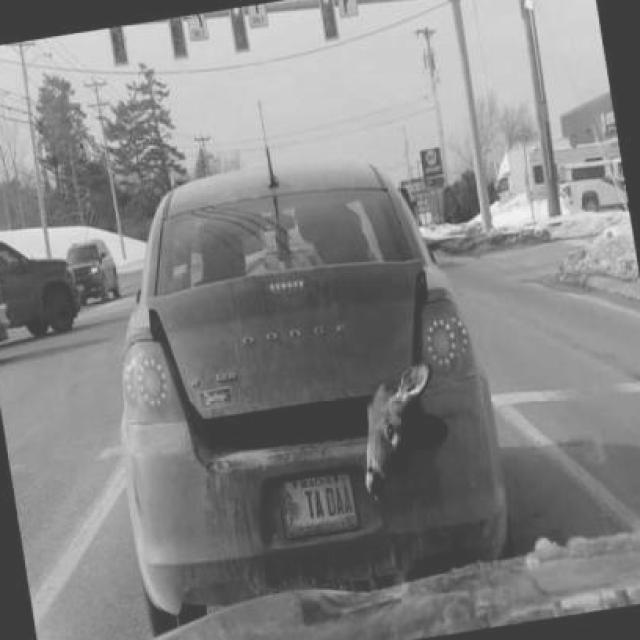licenseplate: (277, 468, 358, 538)
